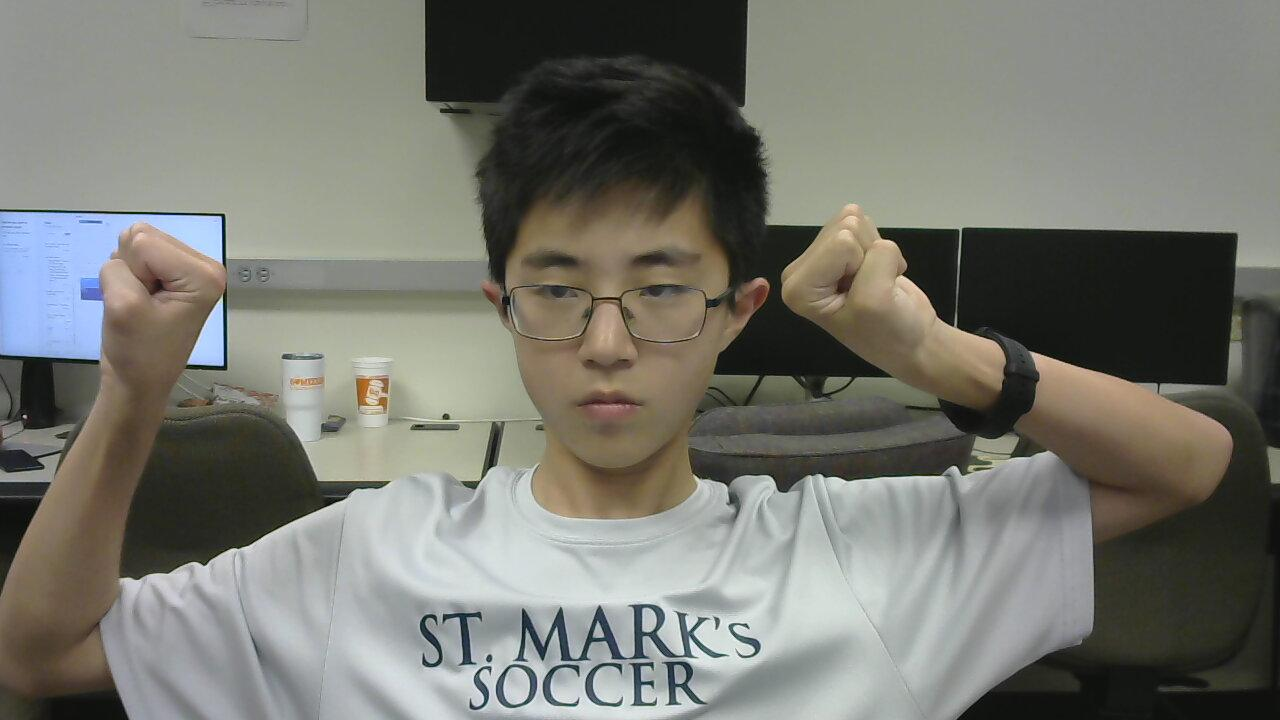fist: (776, 194, 944, 393), (76, 209, 252, 390)
